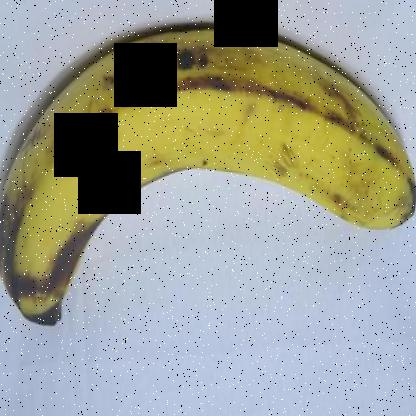ripe: (1, 2, 415, 340)
